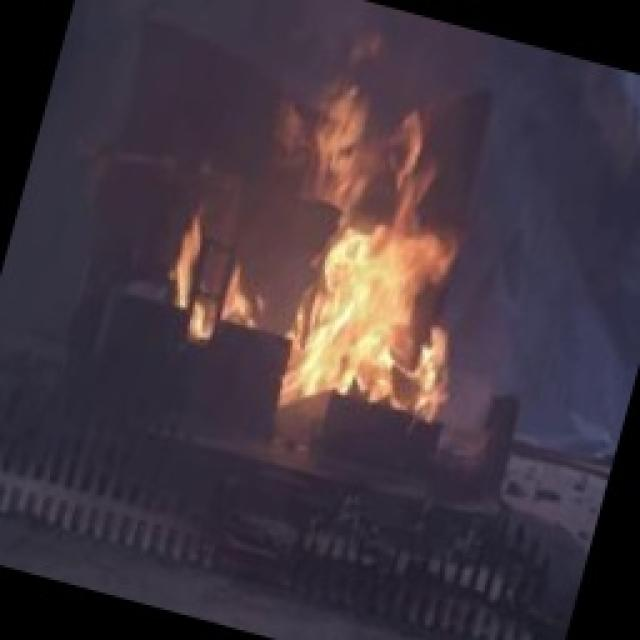fire: (152, 55, 538, 447)
